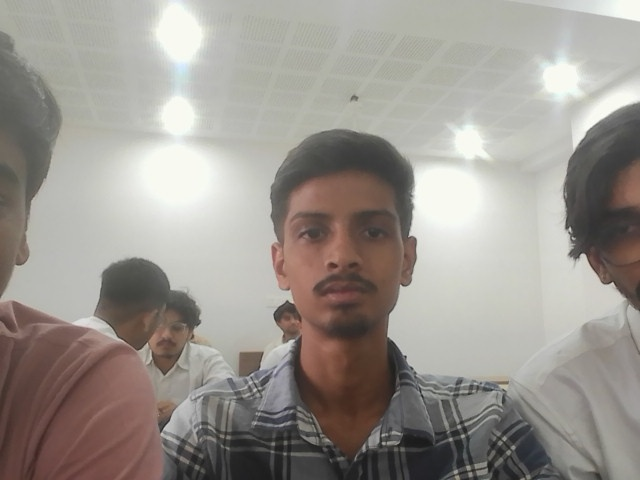light_on: (151, 87, 203, 133), (445, 116, 492, 158), (542, 66, 570, 94), (615, 5, 636, 25)
person: (0, 44, 166, 478), (500, 105, 639, 479), (138, 288, 238, 430), (71, 255, 167, 355), (258, 300, 301, 371)
